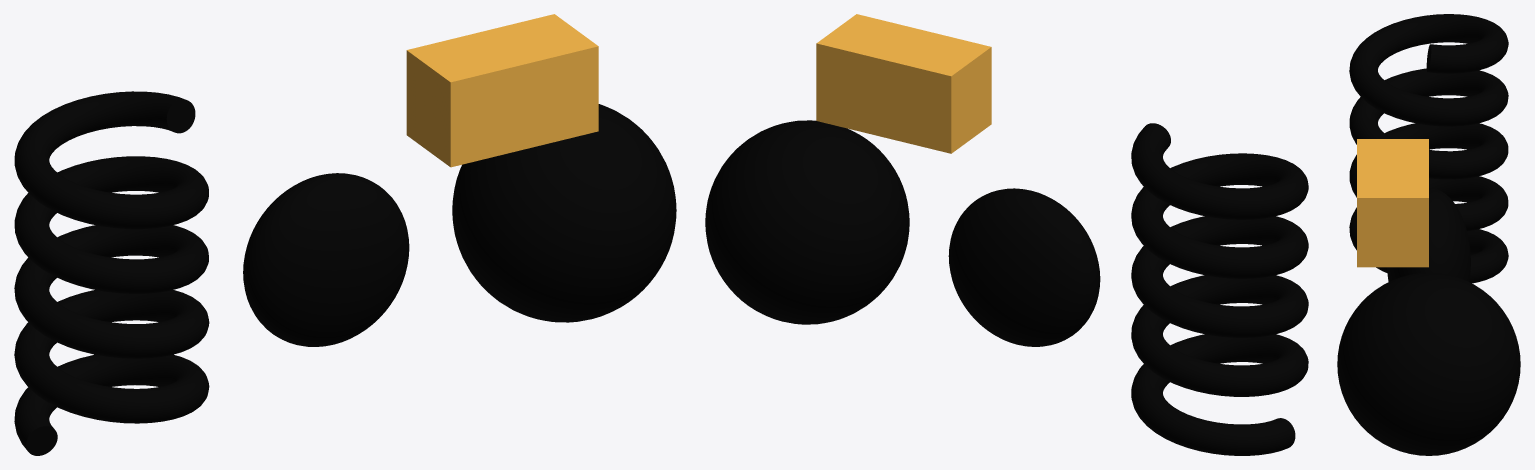
The picture shows the model from 3 angles, left to right: view 1: azimuth 30°, elevation 25°; view 2: azimuth 150°, elevation 25°; view 3: azimuth 270°, elevation 25°; orthographic projection. The views are drawn at different scales.
Visible parts, largest first — view 1: Helix001, Sphere002, Box001, Sphere001; view 2: Helix001, Sphere002, Box001, Sphere001; view 3: Sphere002, Helix001, Box001, Sphere001.
Boxes of the visible parts, x1,y1,x2,y2 form: Helix001: (14,91,209,455); Sphere002: (452,104,676,322); Box001: (406,14,598,167); Sphere001: (243,173,409,346); Helix001: (1131,123,1308,455); Sphere002: (705,120,909,324); Box001: (816,14,991,153); Sphere001: (948,188,1100,346); Sphere002: (1337,272,1520,455); Helix001: (1349,14,1508,283); Box001: (1357,139,1428,267); Sphere001: (1387,188,1470,281).
Size of the model in its own units: 4.53 by 2.2 by 1.39.
